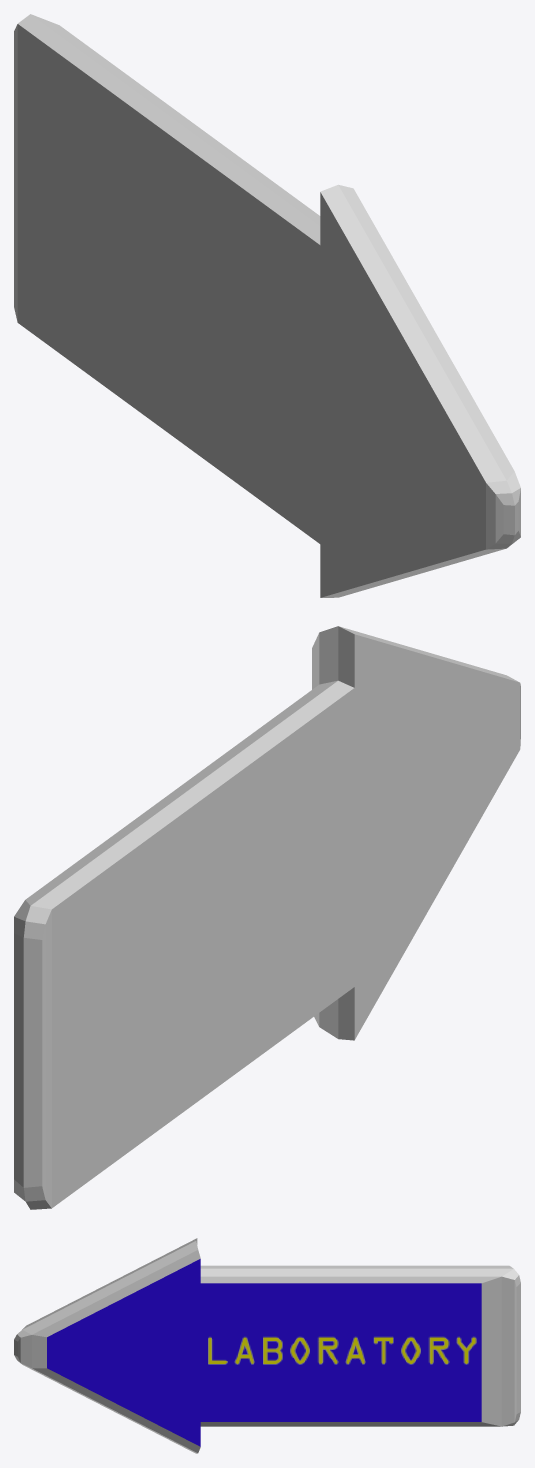
Rendered from señal_lab_en.fbx.
3 renders of one model, top to bottom at view 1: azimuth 30°, elevation 25°; view 2: azimuth 150°, elevation 25°; view 3: azimuth 270°, elevation 25°, orthographic. The views are drawn at different scales.
Visible parts, largest first — view 1: Pointer:Mesh; view 2: Pointer:Mesh; view 3: Pointer:Mesh.
Boxes of the visible parts, x1=… form: Pointer:Mesh: x1=14, y1=14, x2=520, y2=597; Pointer:Mesh: x1=14, y1=626, x2=520, y2=1209; Pointer:Mesh: x1=14, y1=1238, x2=520, y2=1453.
Bounding box in the file's own units: 0.1567 × 1.59 × 3.42.
3 materials, 1 textured.
